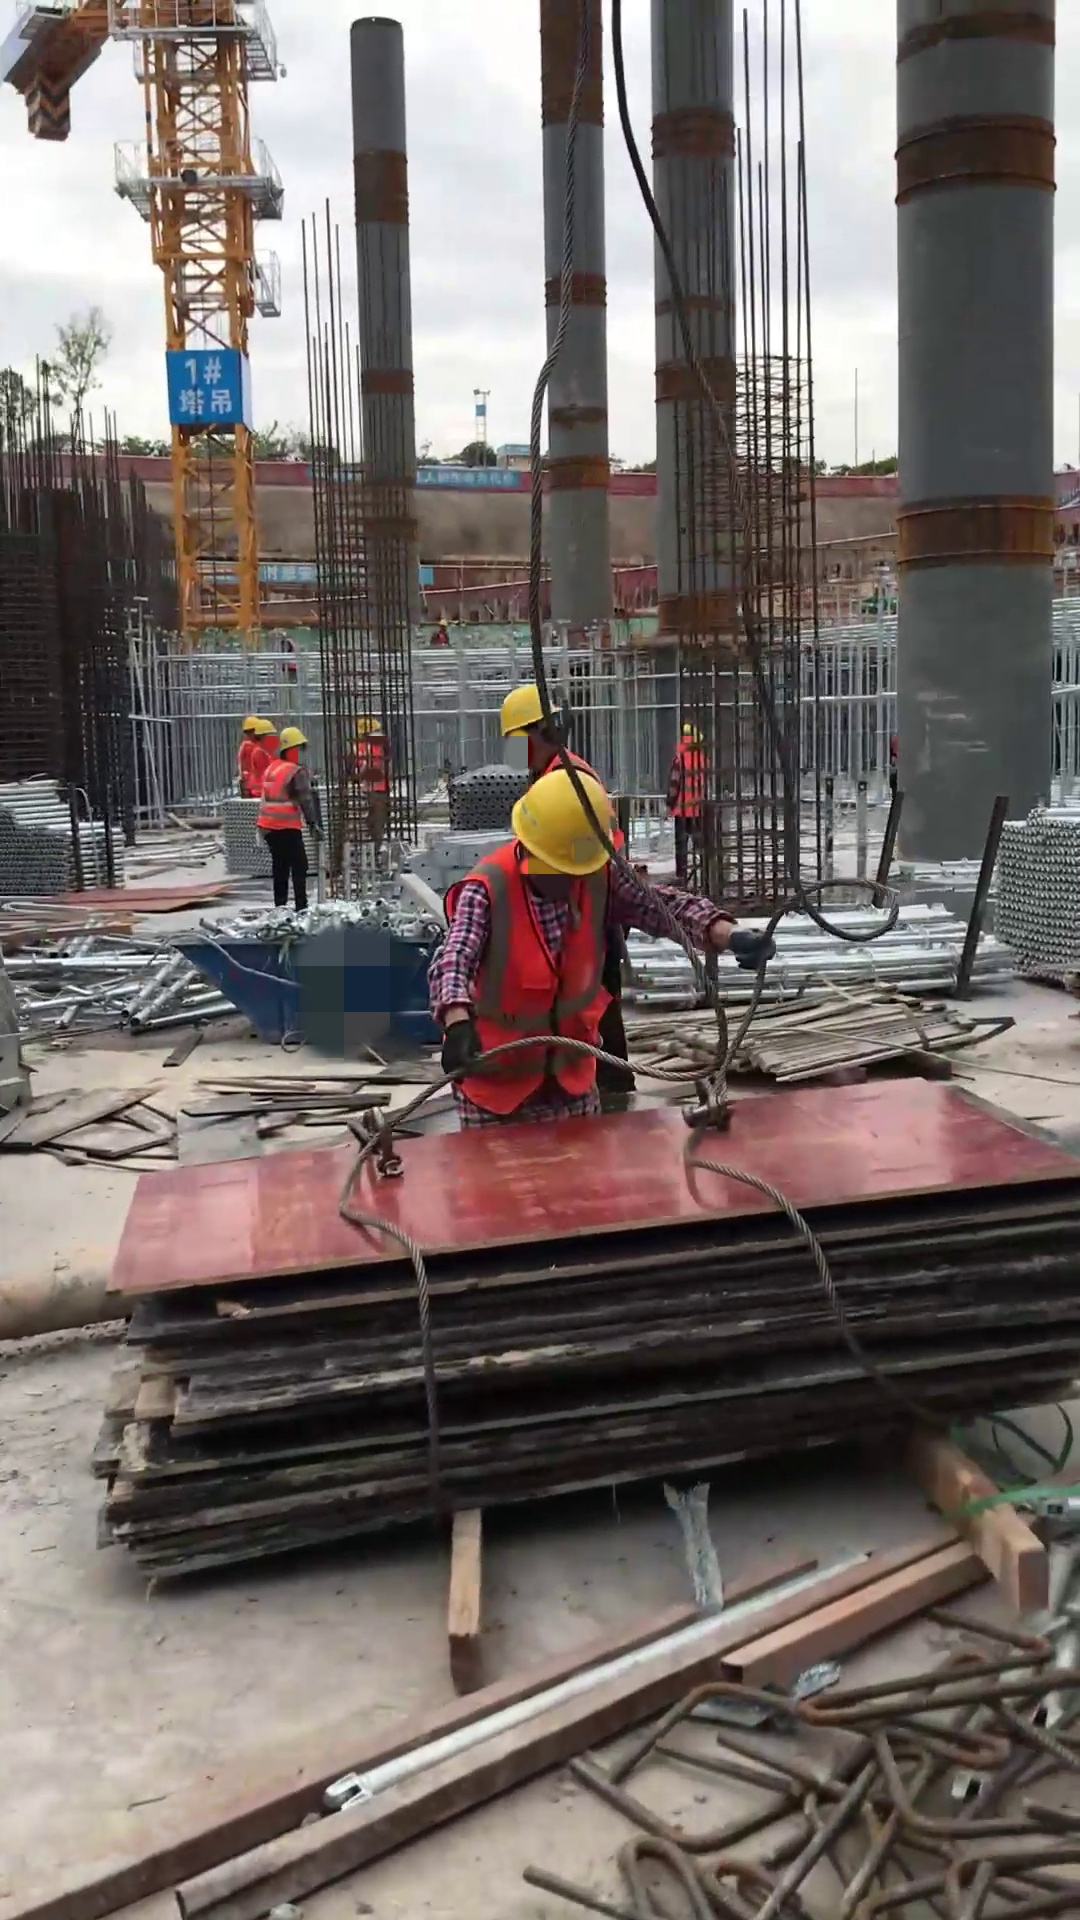board: (100, 1079, 1080, 1574)
helmet: (508, 766, 616, 878), (497, 680, 565, 739), (278, 725, 308, 755), (678, 722, 703, 749), (254, 715, 278, 743), (356, 715, 381, 738), (240, 714, 260, 734), (438, 617, 450, 630)
hopper: (170, 920, 442, 1051)
person: (423, 765, 776, 1131), (254, 725, 327, 915), (496, 679, 606, 784), (661, 720, 714, 883), (346, 710, 391, 858), (247, 716, 280, 801), (233, 713, 258, 786), (429, 615, 452, 649)
scaffold: (619, 902, 1009, 1006), (992, 797, 1080, 989), (1, 777, 132, 896), (221, 791, 343, 879), (447, 762, 536, 835)
slogan: (316, 461, 517, 491), (168, 347, 240, 419), (256, 557, 323, 589)
vest: (441, 837, 614, 1118), (256, 757, 306, 834), (673, 746, 710, 815), (351, 737, 387, 794), (245, 739, 273, 793), (432, 630, 448, 646)
